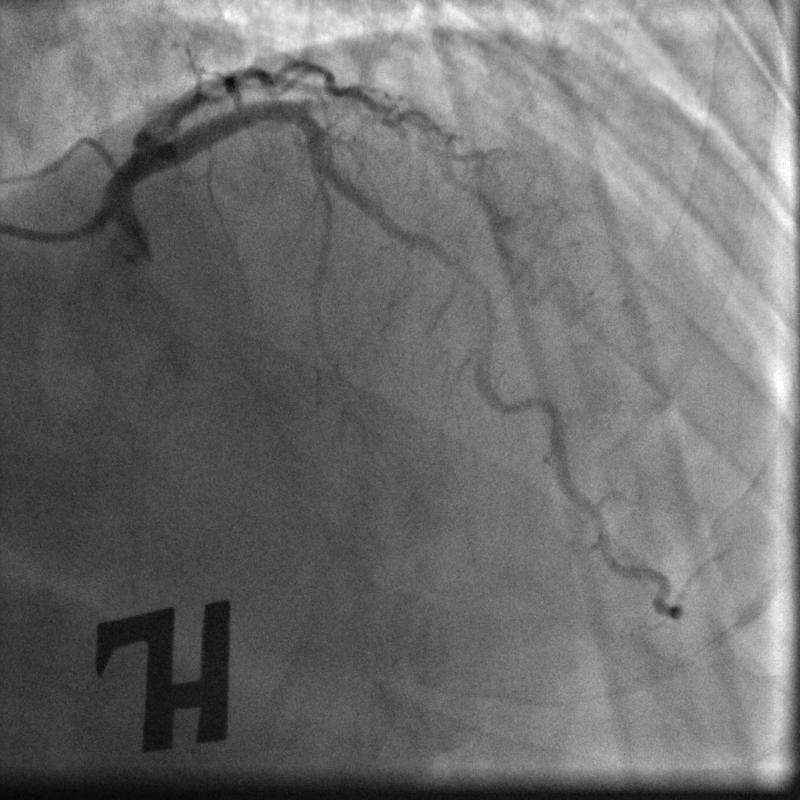Stenosis: (458, 260, 501, 352)
